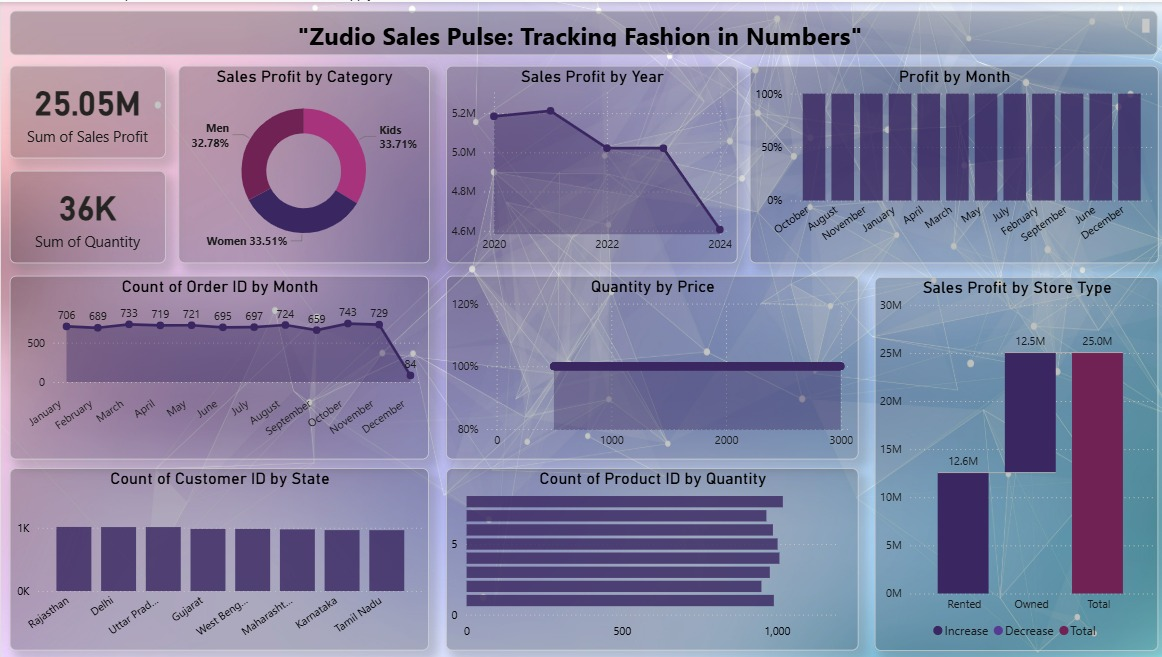

The dashboard page shown, as its layout file describes it:
{"tool":"powerbi","page":{"name":"Page 1","canvas":[1280,720],"ordinal":0},"visuals":[{"type":"hundredPercentStackedColumnChart","title":"Profit by Month","fields":{"Y":["Sum(Zudio_sales_data.Sales Profit)"],"Category":["Zudio_sales_data.Month"]},"box":[821.4,70,448.6,217.1],"z":0},{"type":"textbox","box":[10,10,1260,48.6],"z":1000},{"type":"donutChart","title":"Sales Profit by Category","fields":{"Y":["Sum(Zudio_sales_data.Sales Profit)"],"Category":["Zudio_sales_data.Category"]},"box":[194.3,70,275.7,217.1],"z":2000},{"type":"card","fields":{"Values":["Sum(Zudio_sales_data.Sales Profit)"]},"box":[10,70,171.4,101.4],"z":3000},{"type":"card","fields":{"Values":["Sum(Zudio_sales_data.Quantity)"]},"box":[10,185.7,171.4,101.4],"z":4000},{"type":"stackedAreaChart","fields":{"Category":["Zudio_sales_data.Order Date.Variation.Date Hierarchy.Month"],"Y":["CountNonNull(Zudio_sales_data.Order ID)"]},"box":[10,300,460,201.4],"z":5000},{"type":"lineChart","title":"Sales Profit by Year","fields":{"Category":["Zudio_sales_data.Store Open Date.Variation.Date Hierarchy.Year","Zudio_sales_data.Store Open Date.Variation.Date Hierarchy.Quarter","Zudio_sales_data.Store Open Date.Variation.Date Hierarchy.Month","Zudio_sales_data.Store Open Date.Variation.Date Hierarchy.Day"],"Y":["Sum(Zudio_sales_data.Sales Profit)"]},"box":[488.6,70,320,217.1],"z":6000},{"type":"hundredPercentStackedAreaChart","title":"Quantity by Price","fields":{"Category":["Zudio_sales_data.Price"],"Y":["Sum(Zudio_sales_data.Quantity)"]},"box":[488.6,300,452.9,201.4],"z":7000},{"type":"columnChart","fields":{"Y":["CountNonNull(Zudio_sales_data.Customer ID)"],"Category":["Zudio_sales_data.State"]},"box":[10,511.4,460,200],"z":8000},{"type":"waterfallChart","title":"Sales Profit by Store Type","fields":{"Category":["Zudio_sales_data.Store Type"],"Y":["Sum(Zudio_sales_data.Sales Profit)"]},"box":[958.6,301.4,311.4,410],"z":9000},{"type":"clusteredBarChart","fields":{"Y":["CountNonNull(Zudio_sales_data.Product ID)"],"Category":["Zudio_sales_data.Quantity"]},"box":[488.6,511.4,452.9,200],"z":10000}]}

Visuals, with their boxes in screenshot pixels (x1, y1, x2, y2), scaled from the page's 1280x720 canvas onto the 1162x657 screenshot:
"Profit by Month" hundredPercentStackedColumnChart: locate(746, 64, 1153, 262)
textbox: locate(9, 9, 1153, 53)
"Sales Profit by Category" donutChart: locate(176, 64, 427, 262)
card - Sum(Zudio_sales_data.Sales Profit): locate(9, 64, 165, 156)
card - Sum(Zudio_sales_data.Quantity): locate(9, 169, 165, 262)
stackedAreaChart - Zudio_sales_data.Order Date.Variation.Date Hierarchy.Month x CountNonNull(Zudio_sales_data.Order ID): locate(9, 274, 427, 458)
"Sales Profit by Year" lineChart: locate(444, 64, 734, 262)
"Quantity by Price" hundredPercentStackedAreaChart: locate(444, 274, 855, 458)
columnChart - CountNonNull(Zudio_sales_data.Customer ID) x Zudio_sales_data.State: locate(9, 467, 427, 649)
"Sales Profit by Store Type" waterfallChart: locate(870, 275, 1153, 649)
clusteredBarChart - CountNonNull(Zudio_sales_data.Product ID) x Zudio_sales_data.Quantity: locate(444, 467, 855, 649)
